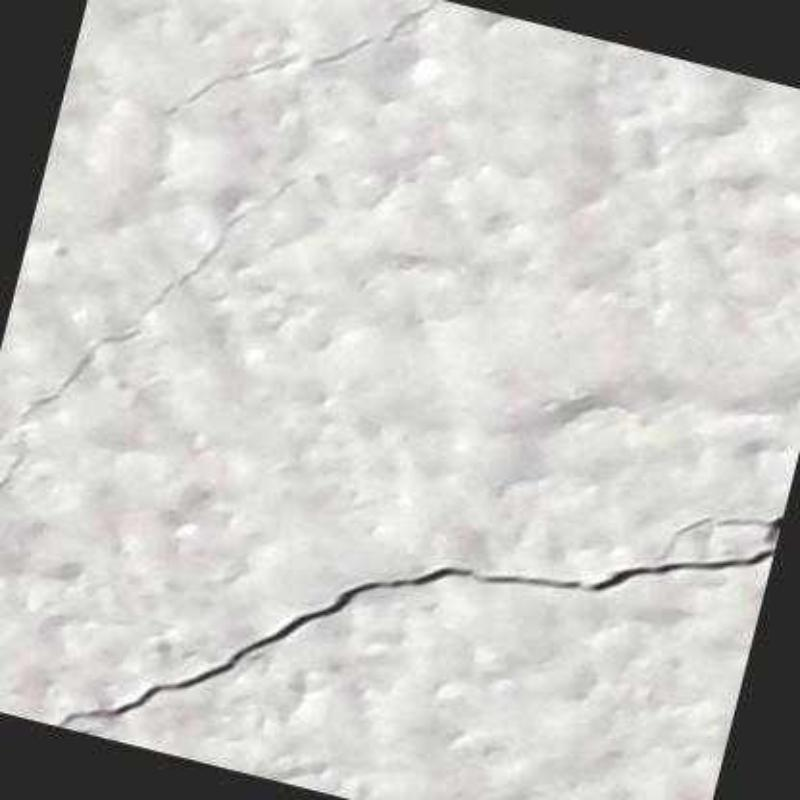crack: (44, 506, 786, 729)
